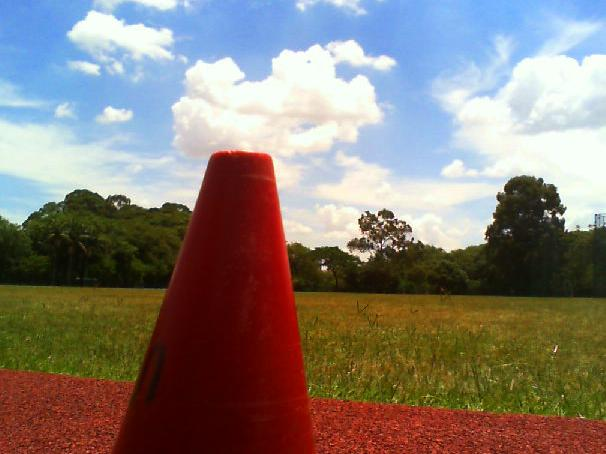0 cone: (109, 150, 316, 454)
